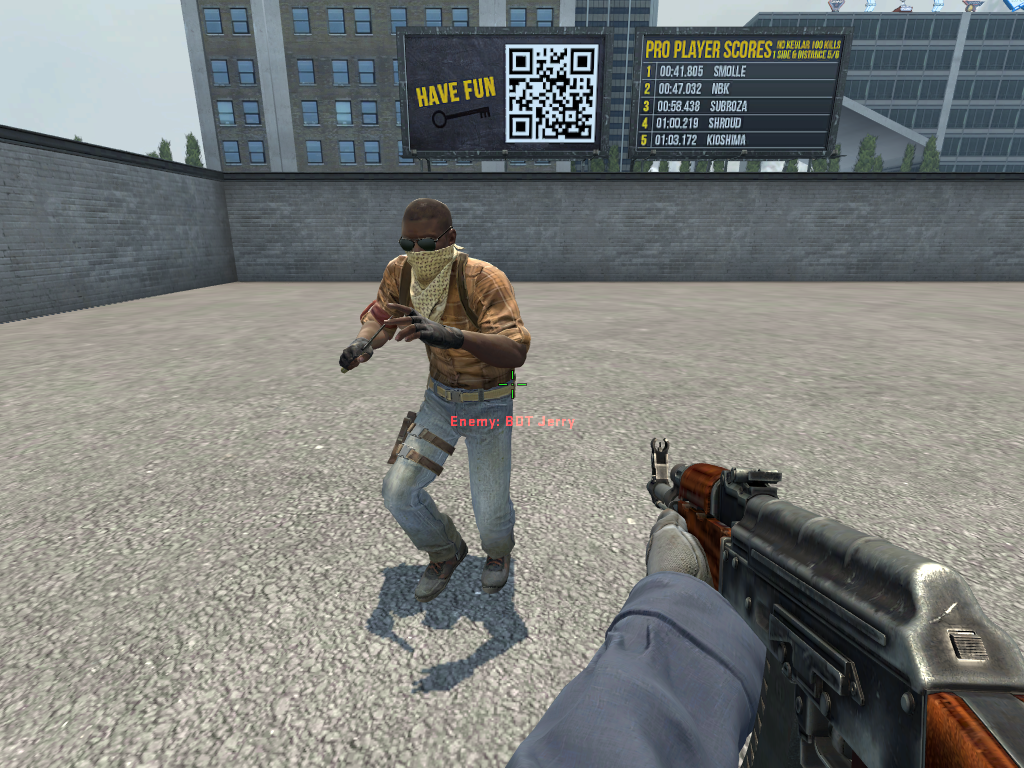tr head: (396, 195, 456, 286)
